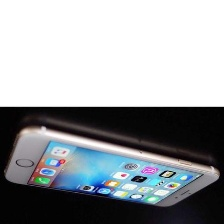phone: (0, 121, 224, 211)
